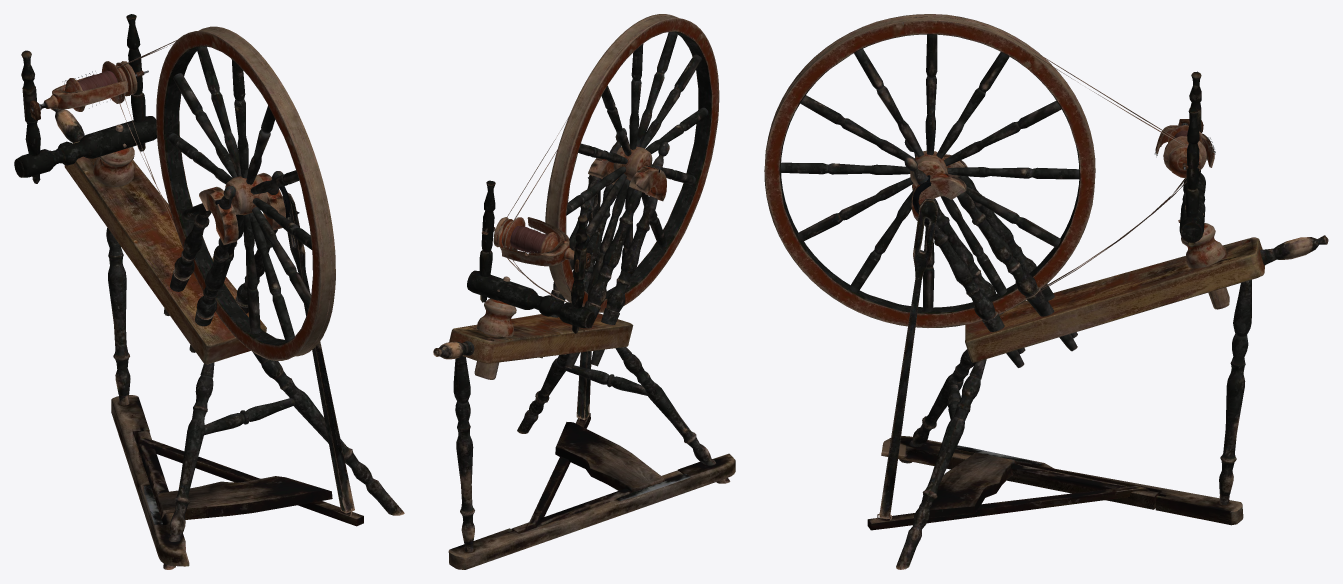
File: spinning_wheel_01.glb
The picture shows the model from 3 angles, left to right: view 1: azimuth 30°, elevation 25°; view 2: azimuth 150°, elevation 25°; view 3: azimuth 270°, elevation 25°; orthographic projection. The views are drawn at different scales.
Visible parts, largest first — view 1: spinning_wheel_01; view 2: spinning_wheel_01; view 3: spinning_wheel_01.
Part boxes in pixels (box(x1,y1,x2,y2)): spinning_wheel_01: box(14, 14, 404, 569); spinning_wheel_01: box(433, 14, 735, 569); spinning_wheel_01: box(764, 14, 1328, 569).
Size of the model in its own units: 0.4893 by 0.9657 by 1.02.
1 material, 1 textured.
